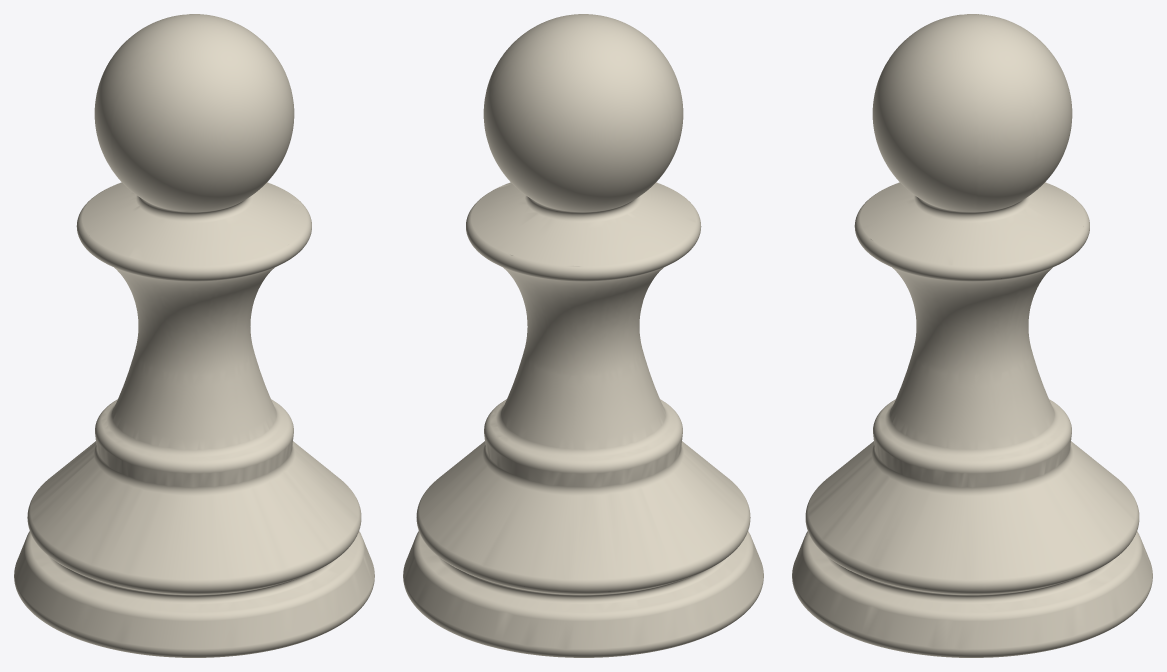
File: peon.glb
The picture shows the model from 3 angles, left to right: view 1: azimuth 30°, elevation 25°; view 2: azimuth 150°, elevation 25°; view 3: azimuth 270°, elevation 25°; orthographic projection.
Parts seen in each view (by area): view 1: Object_2; view 2: Object_2; view 3: Object_2.
Boxes of the visible parts, x1,y1,x2,y2 form: Object_2: [14, 14, 374, 657]; Object_2: [403, 14, 763, 657]; Object_2: [792, 14, 1152, 657].
Bounding box in the file's own units: 28.68 × 49.27 × 28.68.
